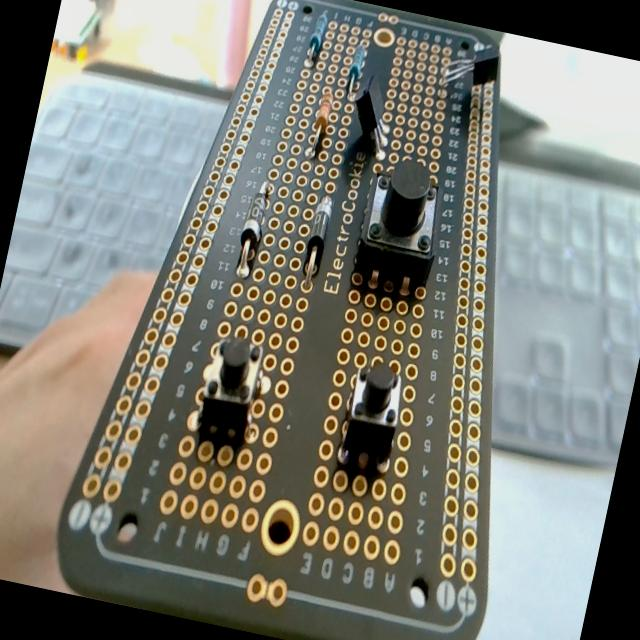diode: (234, 177, 274, 266), (298, 192, 336, 284)
resistor: (308, 86, 337, 158), (303, 7, 331, 67), (344, 44, 366, 96)
switch: (351, 154, 452, 298), (190, 329, 268, 450), (334, 355, 410, 476)
transistor: (432, 33, 506, 115), (345, 70, 400, 158)
